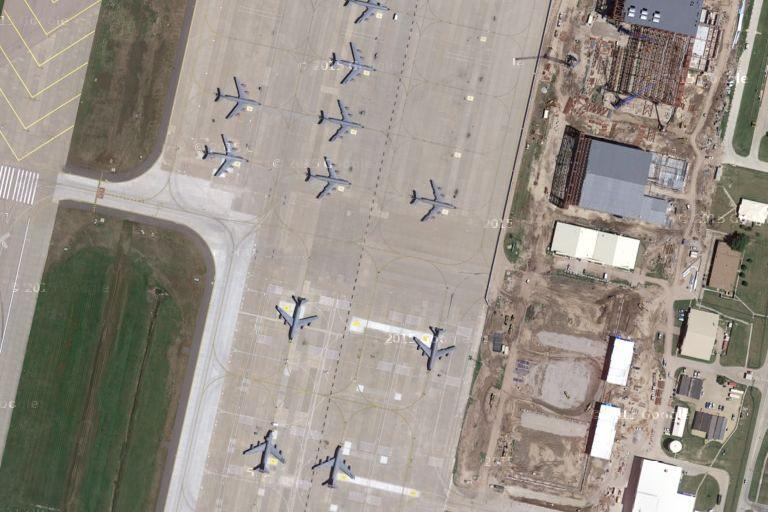KC-135: (407, 322, 462, 376), (310, 97, 369, 146), (299, 153, 357, 202), (271, 290, 322, 345), (210, 74, 267, 122), (325, 37, 376, 90), (309, 440, 359, 494), (196, 129, 251, 178), (403, 177, 460, 224), (239, 429, 288, 477), (334, 1, 396, 26)
